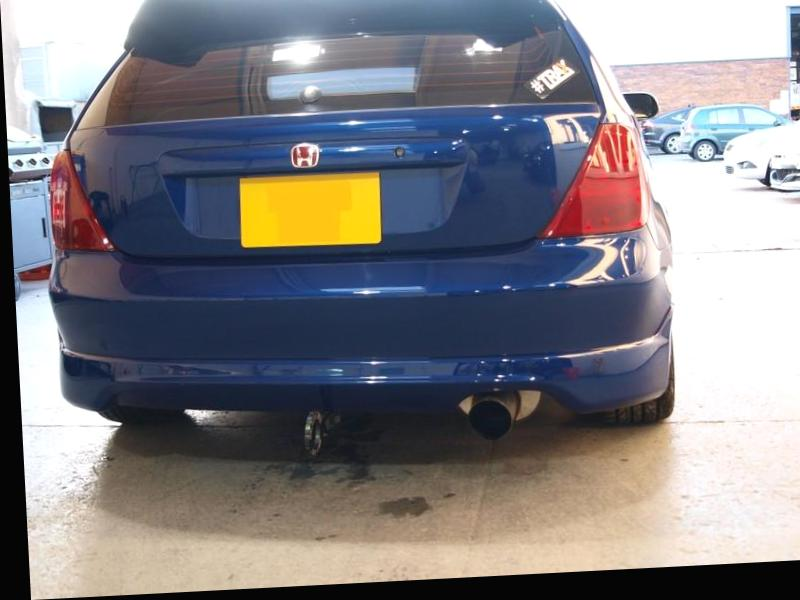License_Plate: (227, 162, 404, 261)
